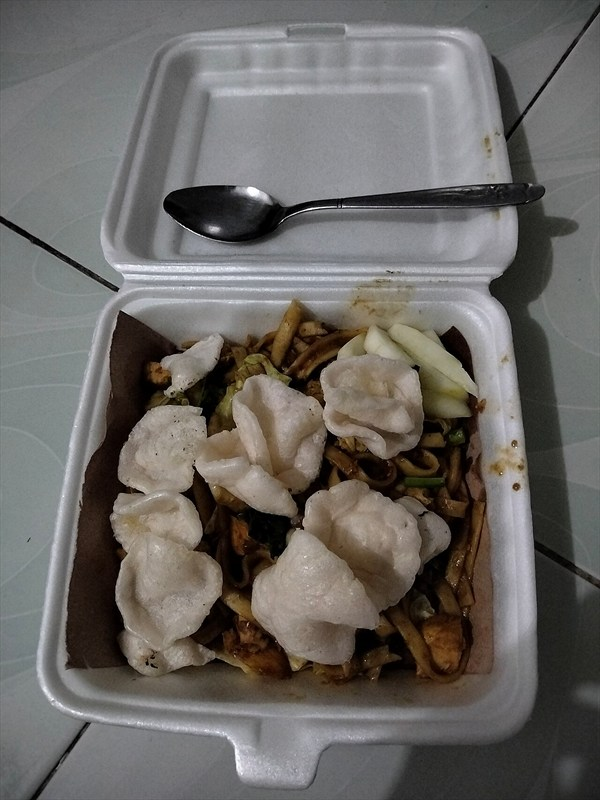Mie Goreng: (84, 165, 531, 688)
